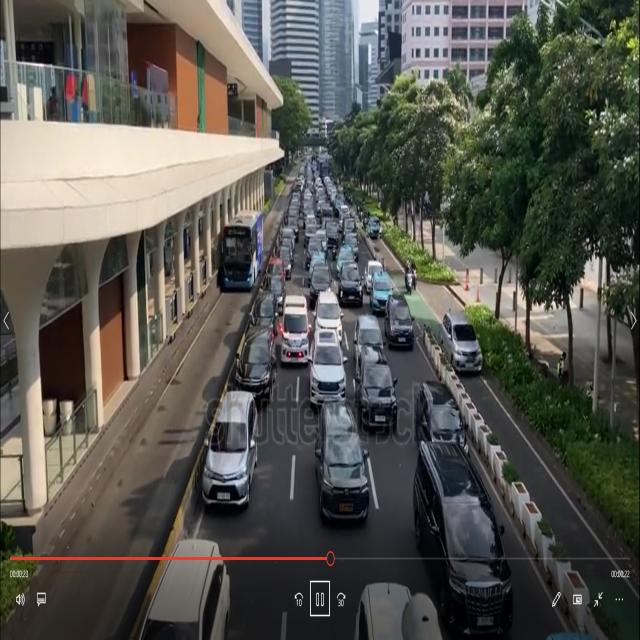Ambulance: (278, 289, 312, 376)
